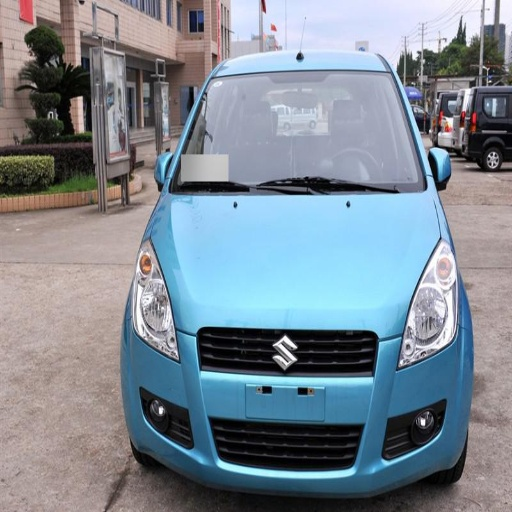front_bumper: (128, 330, 465, 495)
front_right_light: (130, 245, 178, 360)
hood: (152, 191, 439, 335)
